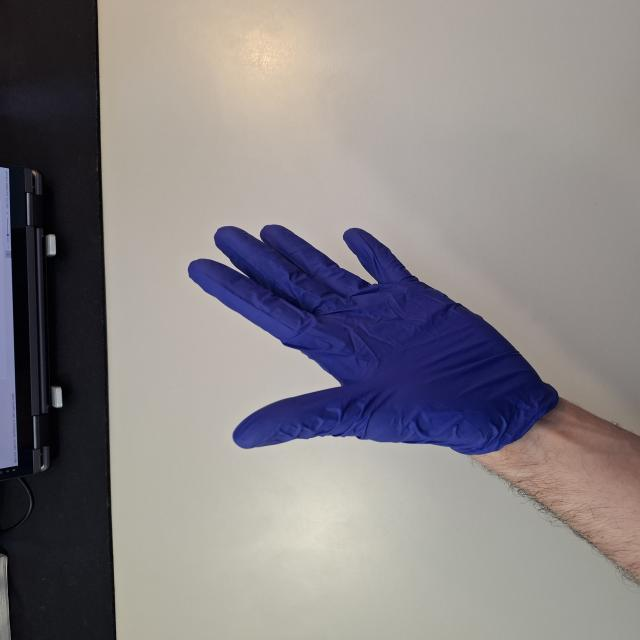glove_on: (183, 223, 562, 455)
